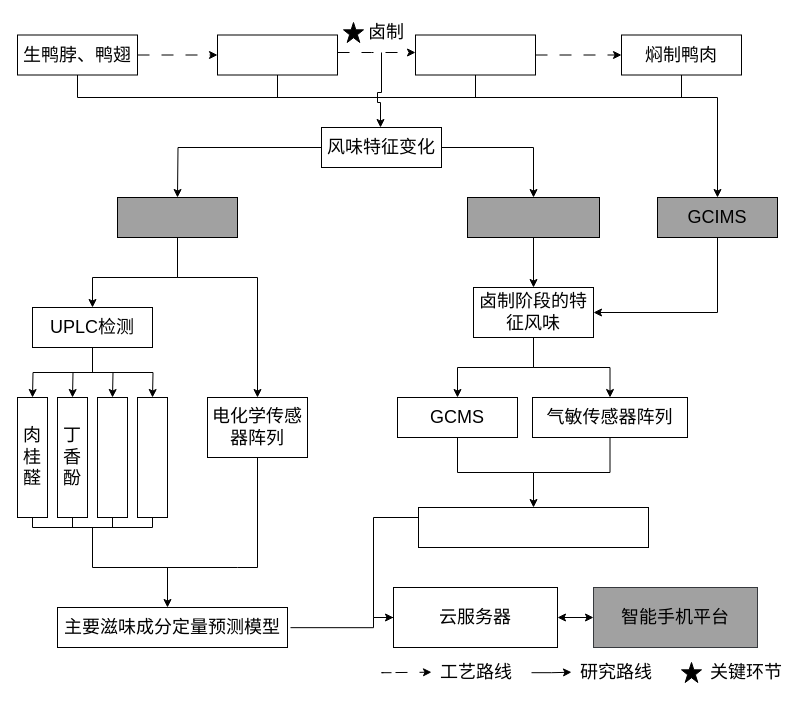
Some shapes in this 809 by 704 pixel diagram are drawn without their labels. Here are the shapes that lost their labels. From the top down, the centre of each, then its label:
pixel 277 54: 腌制鸭肉
pixel 475 54: 卤制鸭肉
pixel 177 217: 卤汤特征滋味
pixel 533 217: 挥发性特征风味
pixel 112 457: 胡椒碱
pixel 152 457: 总辣椒碱
pixel 533 527: 挥发性风味定量预测模型
